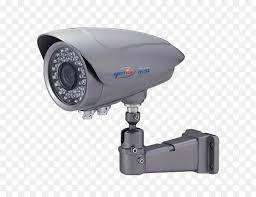tutu: (31, 17, 193, 126)
